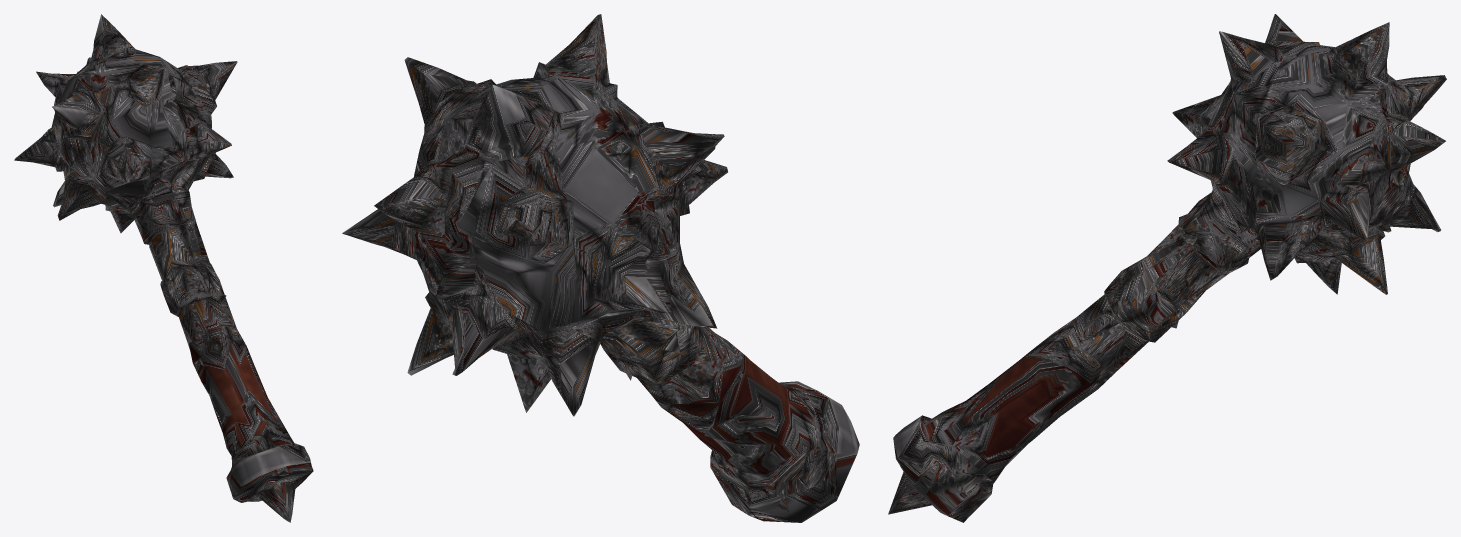
File: w_morning_star.glb
3 renders of one model, left to right at view 1: azimuth 30°, elevation 25°; view 2: azimuth 150°, elevation 25°; view 3: azimuth 270°, elevation 25°, orthographic. The views are drawn at different scales.
Size of the model in its own units: 0.5281 by 0.9712 by 0.9995.
1 material, 1 textured.
